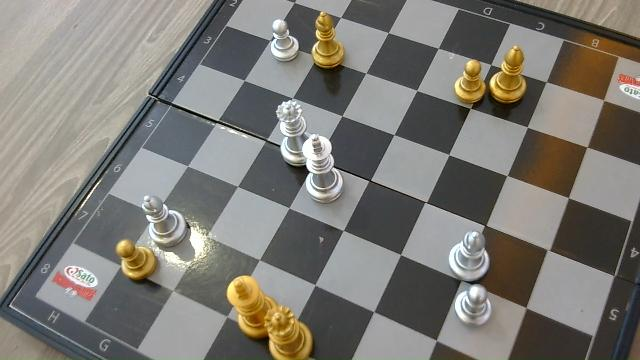black_bishop: (489, 44, 529, 105), (312, 10, 346, 70)
black_king: (227, 274, 264, 336)
black_pawn: (454, 58, 486, 106), (115, 241, 151, 282)
black_queen: (265, 303, 313, 360)
white_bishop: (141, 194, 190, 248), (448, 225, 491, 283)
white_king: (305, 134, 344, 204)
white_pawn: (455, 286, 494, 326), (268, 17, 300, 62)
white_queen: (276, 98, 304, 166)
